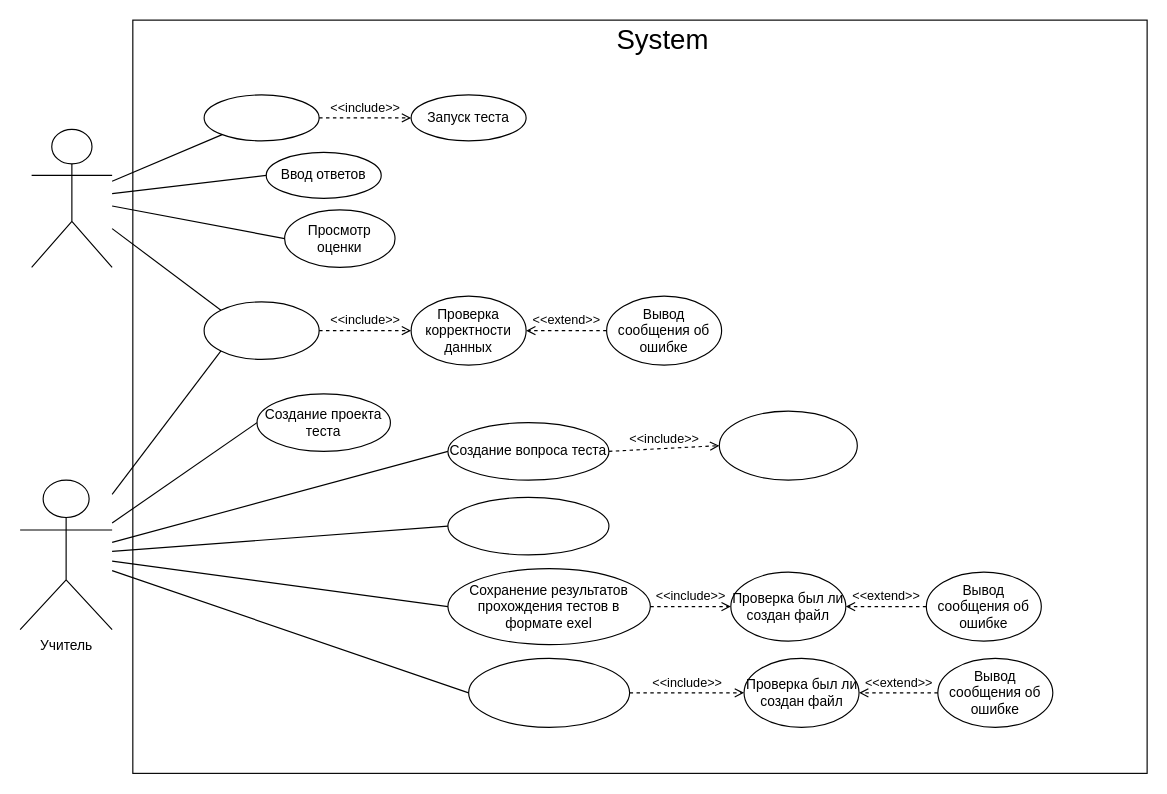
Some shapes in this 1167 by 794 pixel diagram are drawn without their labels. The centre of each missing label's shape, as x and y in pixels:
"Авторизация" belongs at point (261, 330).
"Ввод стоимости вопроса (в баллах)" belongs at point (787, 445).
"Выбор теста" belongs at point (261, 117).
"Просмотр результатов прохождения тестов" belongs at point (528, 525).
"Сохранение проекта теста в формате xml" belongs at point (548, 692).
"Ученик" belongs at point (71, 197).
